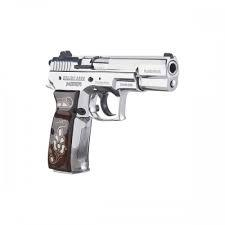weapon: (42, 47, 180, 175)
